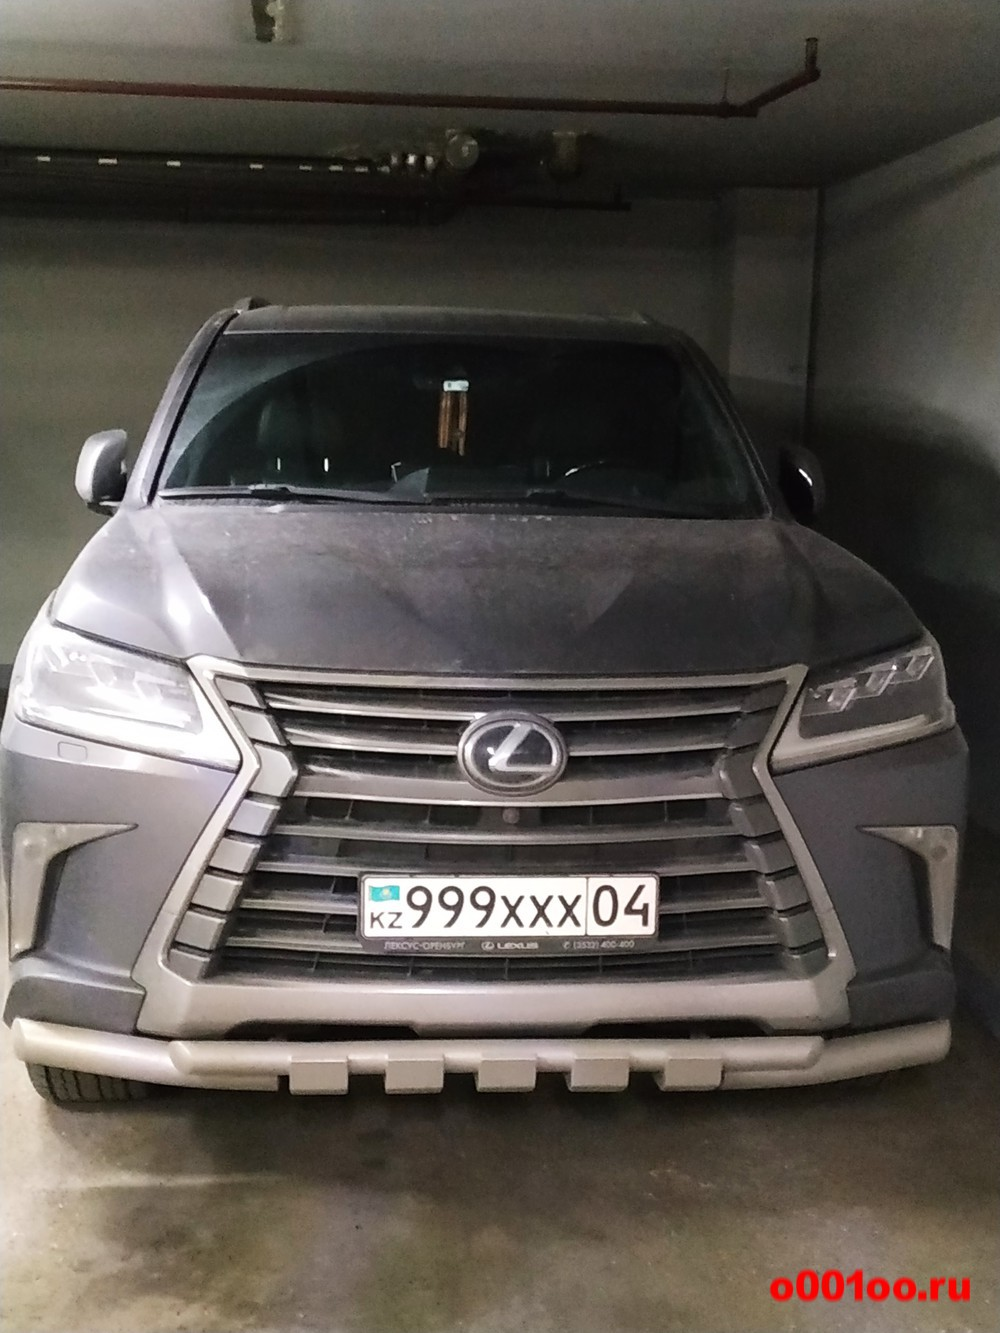license_plate: (361, 872, 657, 935)
